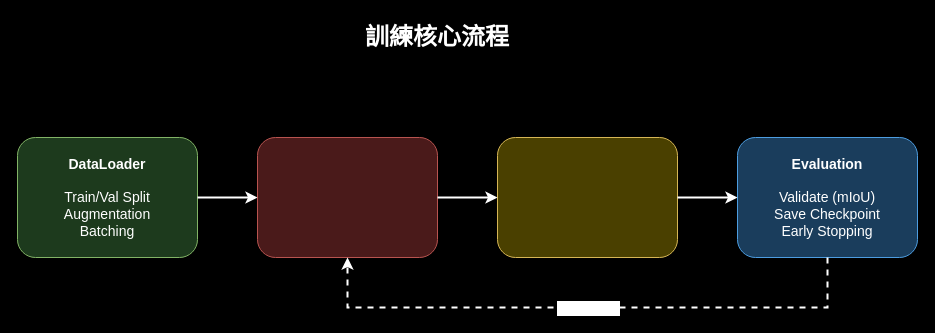
The diagram is 935 pixels wide and 333 high, and some of its shapes have lost their labels. Here are the shapes that lost their labels. From the top down, the box of each, then its label:
(256, 136, 438, 258): Model (Unet++) Forward Pass AMP Mixed Precision
(496, 136, 678, 258): Optimization Loss (Dice+CE) Backward Pass AdamW Update
